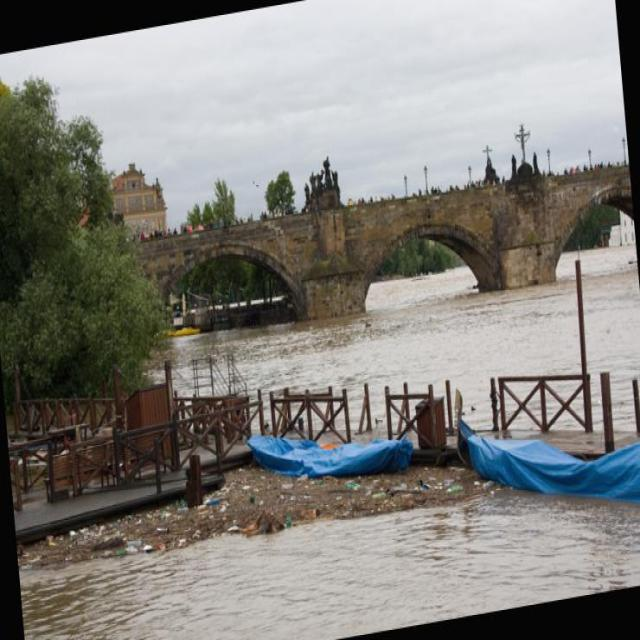flood: (3, 265, 639, 639)
